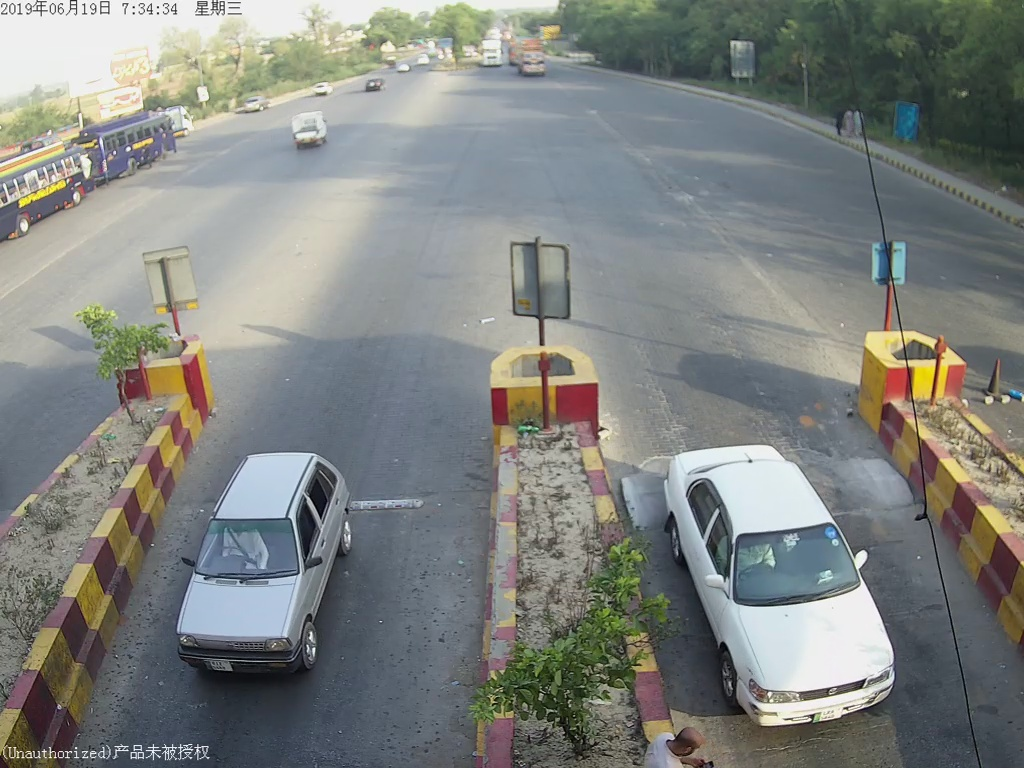Cat-1: (663, 422, 907, 737), (176, 456, 359, 676)
